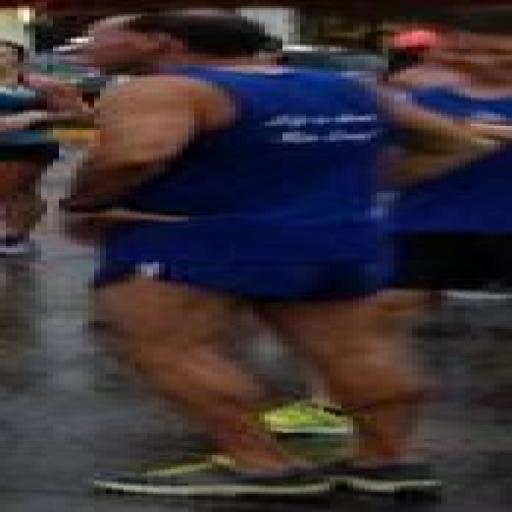person: (59, 15, 488, 495), (383, 145, 511, 333), (0, 41, 88, 255)
